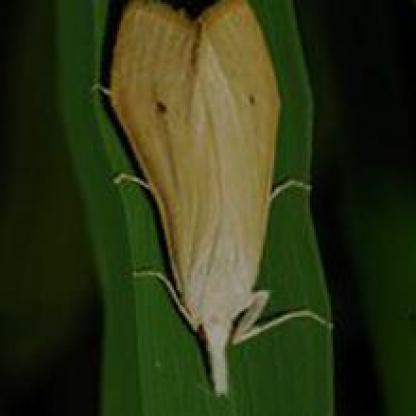stem-borer: (89, 0, 333, 395)
